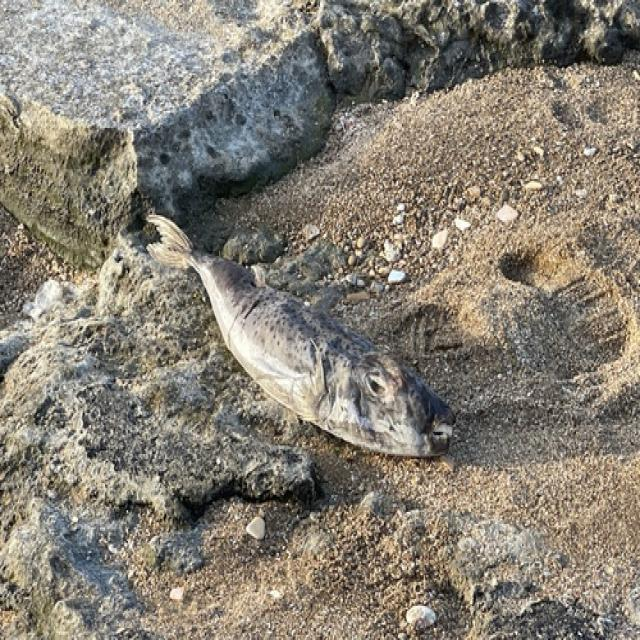Balik: (148, 216, 454, 457)
